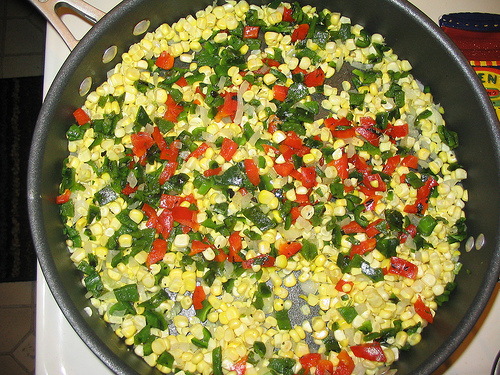corn: (55, 0, 470, 374)
